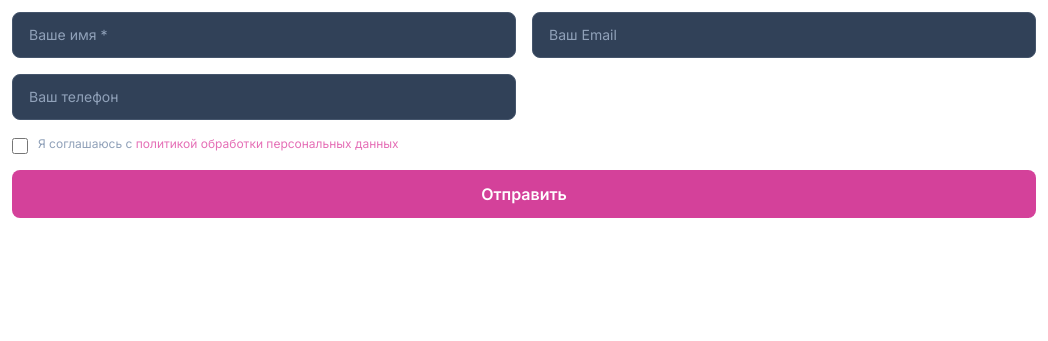
Test case: SiteForm › asks for a way to reply when both contact fields are optional
Click the button "Отправить": (524, 194) [12,170,1036,218]
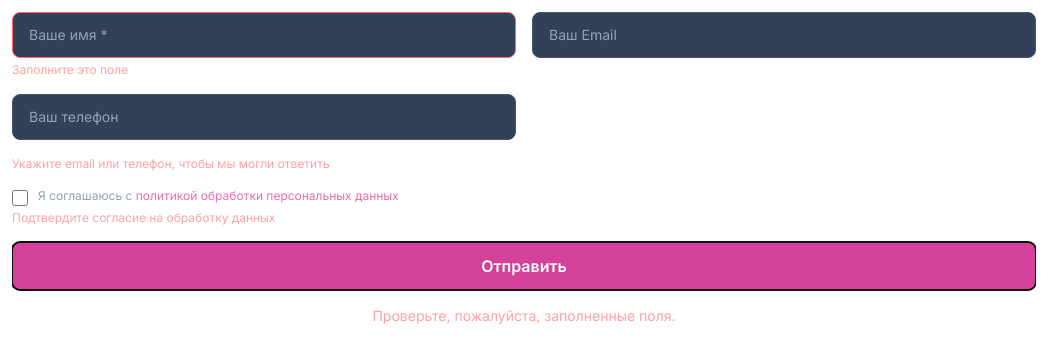
Expected: the text "Укажите email или телефон, чтобы мы могли ответить" is shown, [12,156,330,171]
